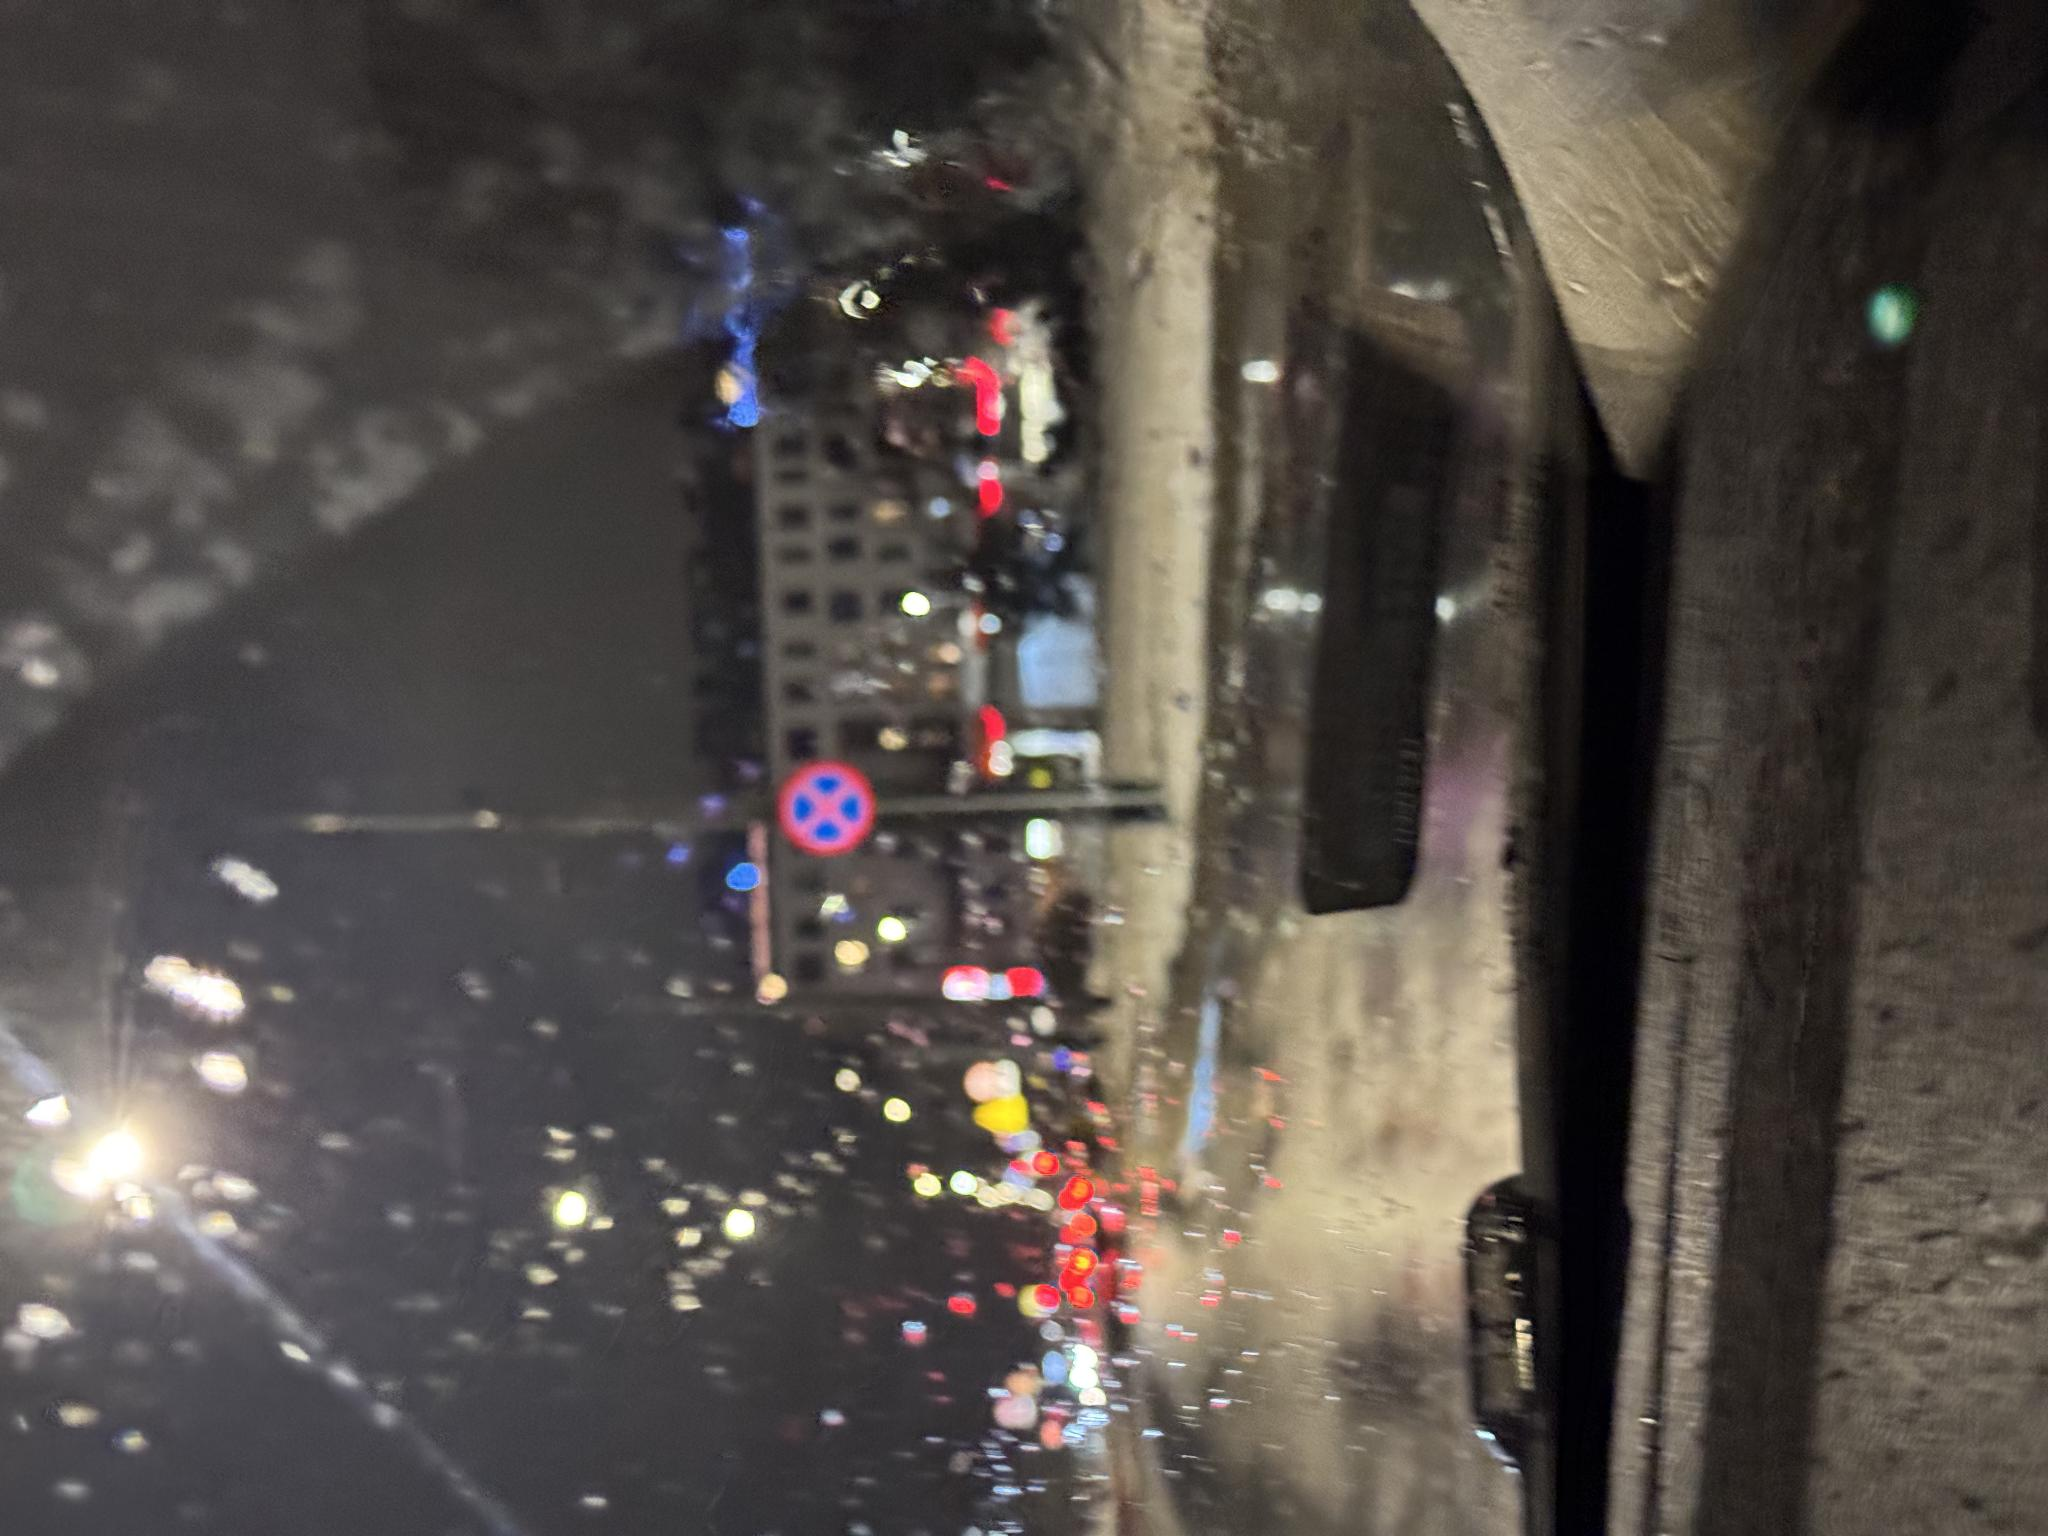prohibitory: (677, 776, 777, 879)
